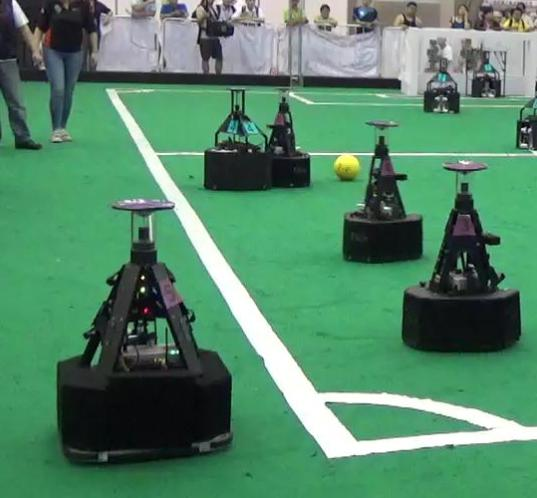robot: (52, 188, 237, 469), (401, 156, 526, 354), (330, 114, 426, 264), (200, 83, 275, 197)
